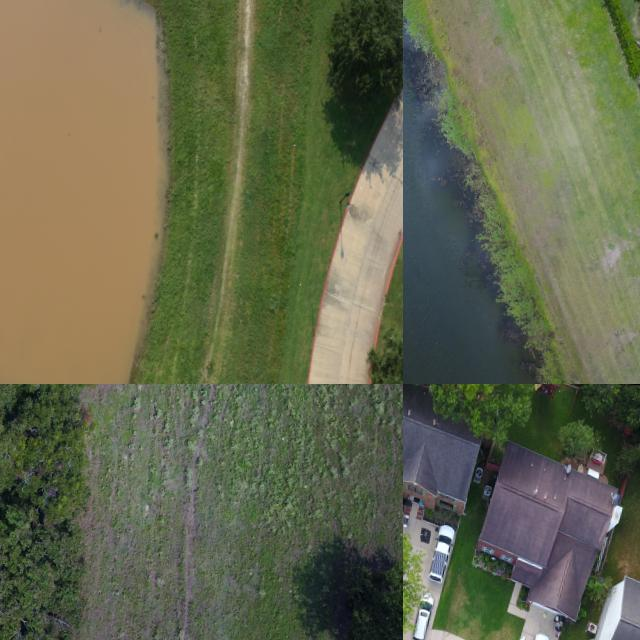fire: (0, 0, 166, 384), (403, 63, 537, 384)
